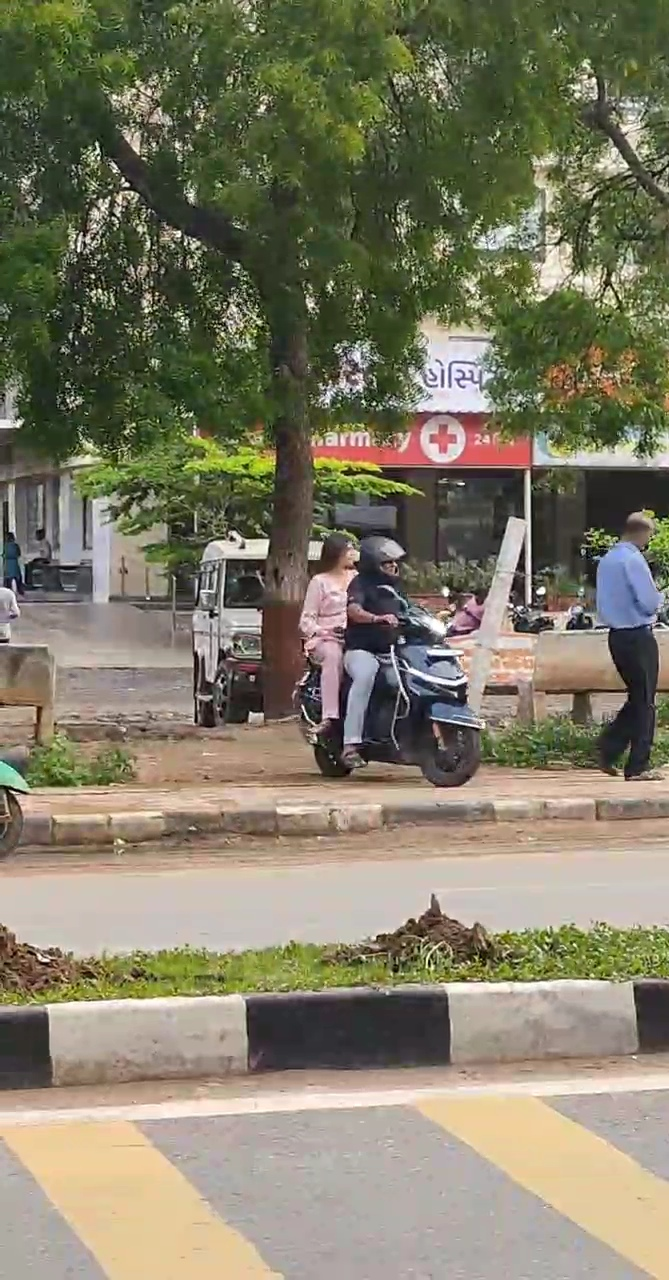BikeWithRider: (290, 531, 488, 788)
Helmet: (357, 533, 406, 584)
NoHelmet: (319, 532, 358, 570)
